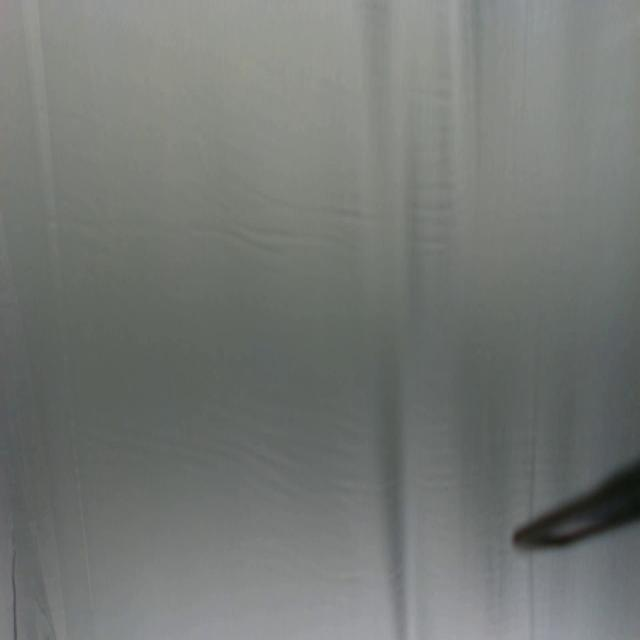crease: (21, 0, 98, 640), (9, 548, 21, 640)
